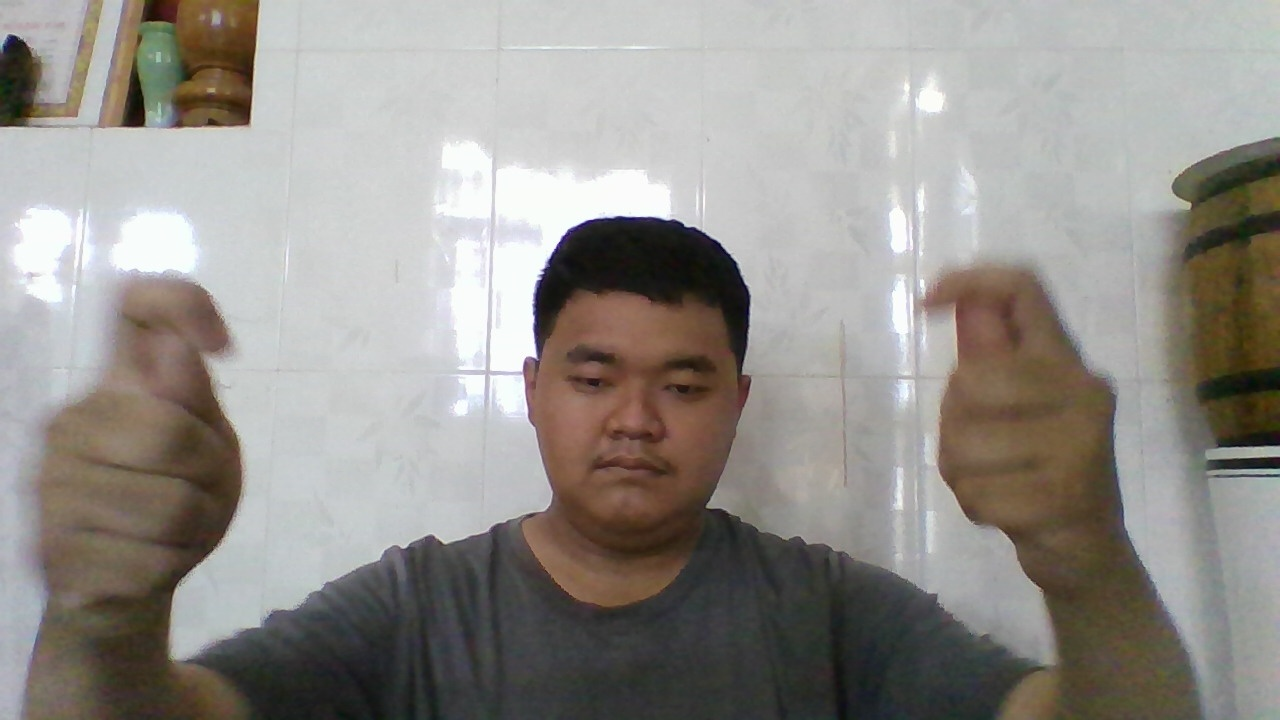X: (32, 277, 243, 630), (916, 261, 1115, 617)
